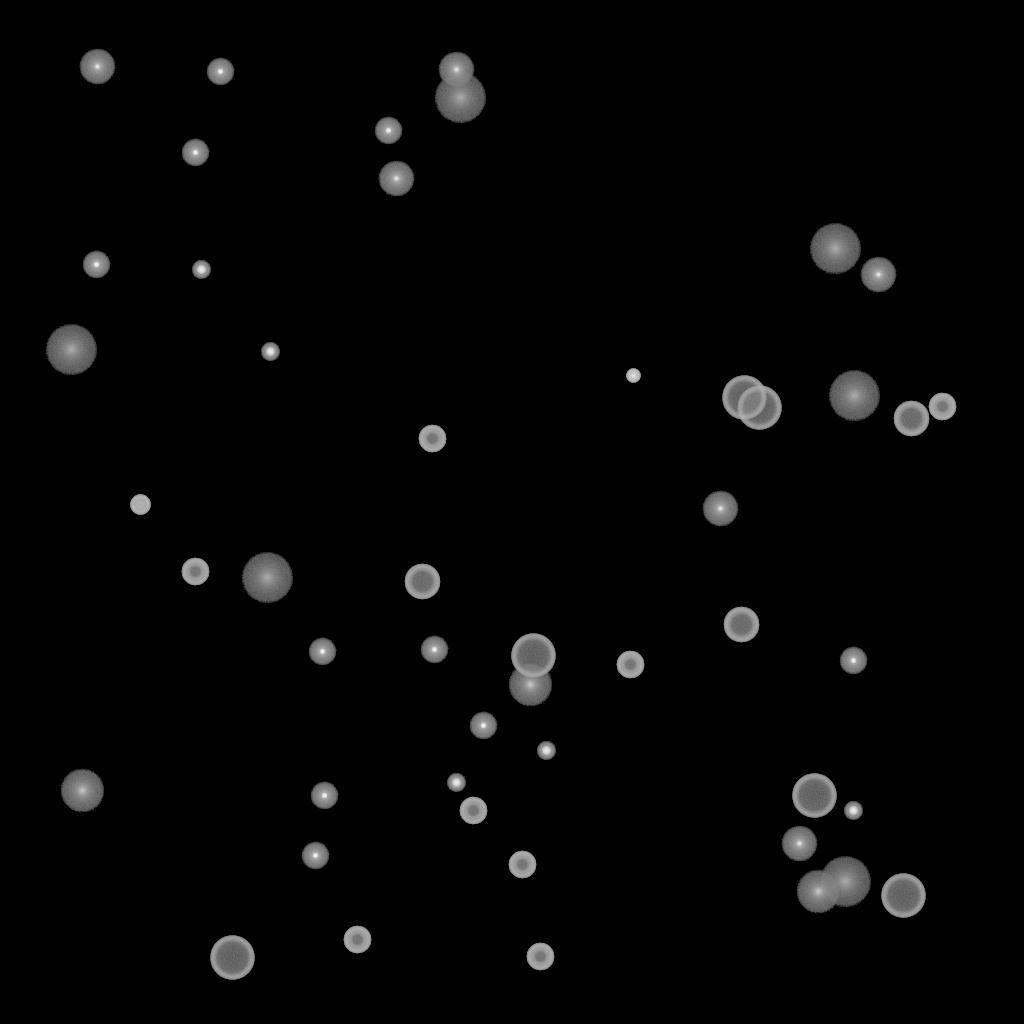depth:-10: (469, 712, 497, 740), (420, 636, 448, 664), (310, 782, 338, 810), (206, 58, 234, 86), (181, 139, 209, 167), (82, 251, 110, 279), (301, 842, 329, 870), (839, 647, 867, 675), (374, 117, 402, 145), (308, 638, 336, 666)
depth:-20: (192, 261, 210, 279), (447, 774, 465, 792), (261, 343, 279, 361), (844, 802, 862, 820), (537, 742, 555, 760)
depth:-30: (626, 369, 640, 383)
depth:-40: (130, 495, 150, 515)
depth:-50: (343, 926, 371, 954), (459, 797, 487, 825), (508, 851, 536, 879), (928, 393, 956, 421), (526, 943, 554, 971), (181, 558, 209, 586), (616, 651, 644, 679), (418, 425, 446, 453)
depth:-60: (893, 401, 929, 437), (723, 607, 759, 643), (404, 564, 440, 600)
depth:-70: (737, 386, 781, 430), (722, 376, 766, 420), (792, 774, 836, 818), (511, 634, 555, 678), (881, 874, 925, 918), (210, 936, 254, 980)
depth:0: (378, 161, 414, 197), (438, 52, 474, 88), (79, 49, 115, 85), (702, 491, 738, 527), (860, 257, 896, 293), (781, 826, 817, 862)
depth:10: (796, 870, 840, 914), (508, 663, 552, 707), (60, 769, 104, 813)
depth:20: (45, 325, 97, 375), (809, 224, 861, 274), (434, 73, 486, 123), (819, 857, 871, 907), (241, 553, 293, 603), (828, 371, 880, 421)
